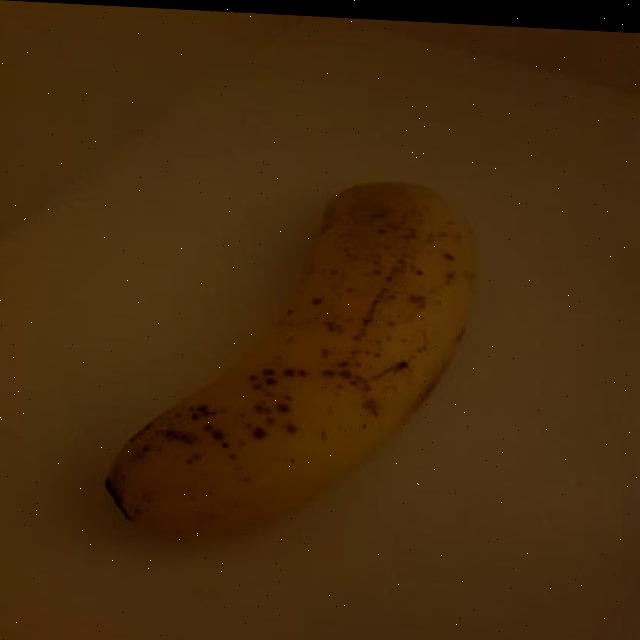banana: (91, 152, 476, 568)
